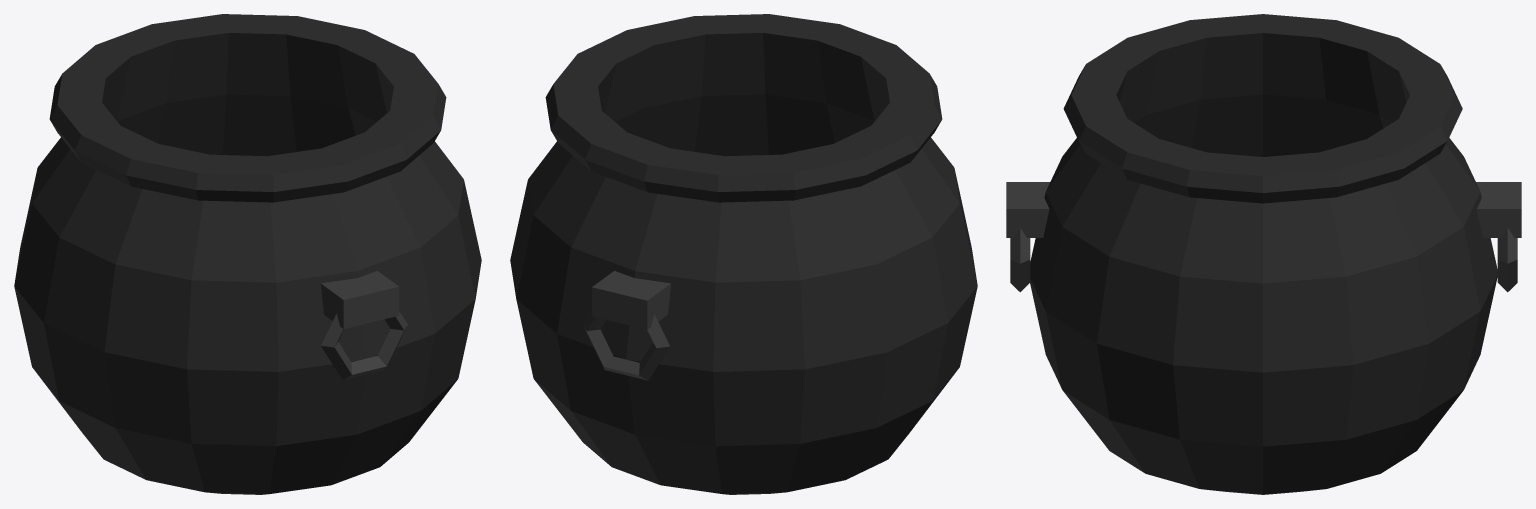
File: cauldron.fbx
The picture shows the model from 3 angles, left to right: view 1: azimuth 30°, elevation 25°; view 2: azimuth 150°, elevation 25°; view 3: azimuth 270°, elevation 25°; orthographic projection.
Parts seen in each view (by area): view 1: cauldron; view 2: cauldron; view 3: cauldron.
Part boxes in pixels (x1=…): cauldron: x1=14, y1=14, x2=481, y2=494; cauldron: x1=510, y1=14, x2=977, y2=494; cauldron: x1=1006, y1=14, x2=1521, y2=494.
Bounding box in the file's own units: 163 × 137 × 179.
